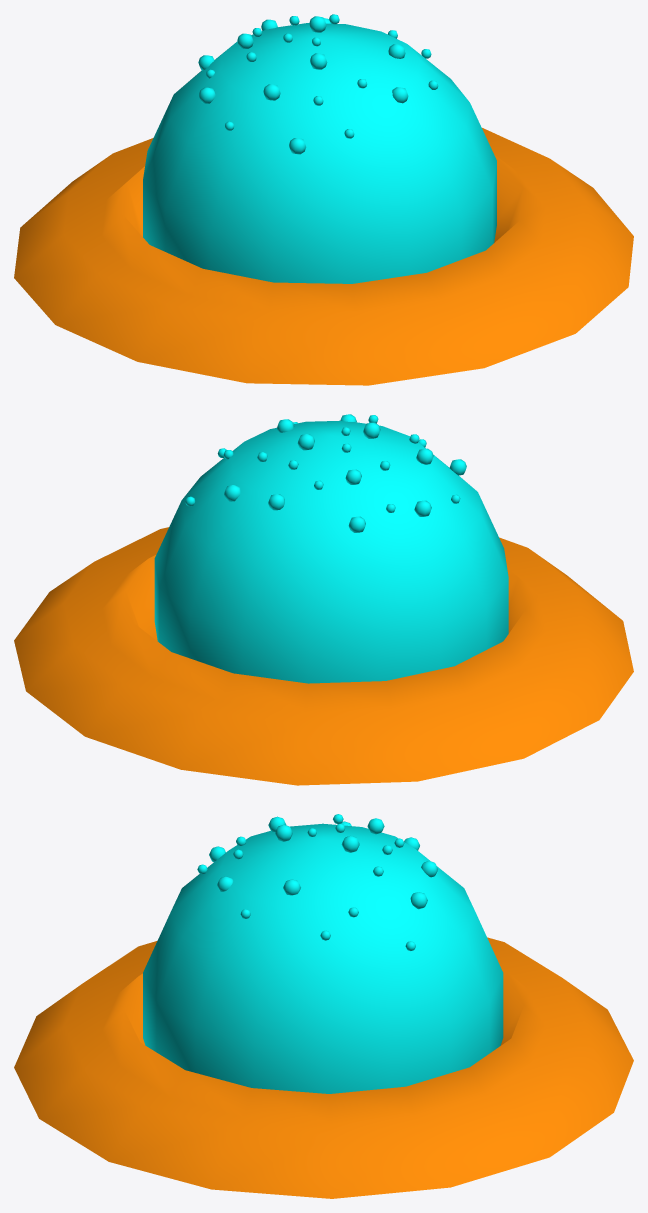
The model's file is Lago_Huevo LP 1.fbx.
3 renders of one model, top to bottom at view 1: azimuth 30°, elevation 25°; view 2: azimuth 150°, elevation 25°; view 3: azimuth 270°, elevation 25°, orthographic.
Visible parts, largest first — view 1: Helado LP; view 2: Helado LP; view 3: Helado LP.
Part boxes in pixels (x1,y1,x2,y2): Helado LP: (14,14,633,385); Helado LP: (14,414,633,785); Helado LP: (14,814,633,1198).
Size of the model in its own units: 255 by 120 by 249.
